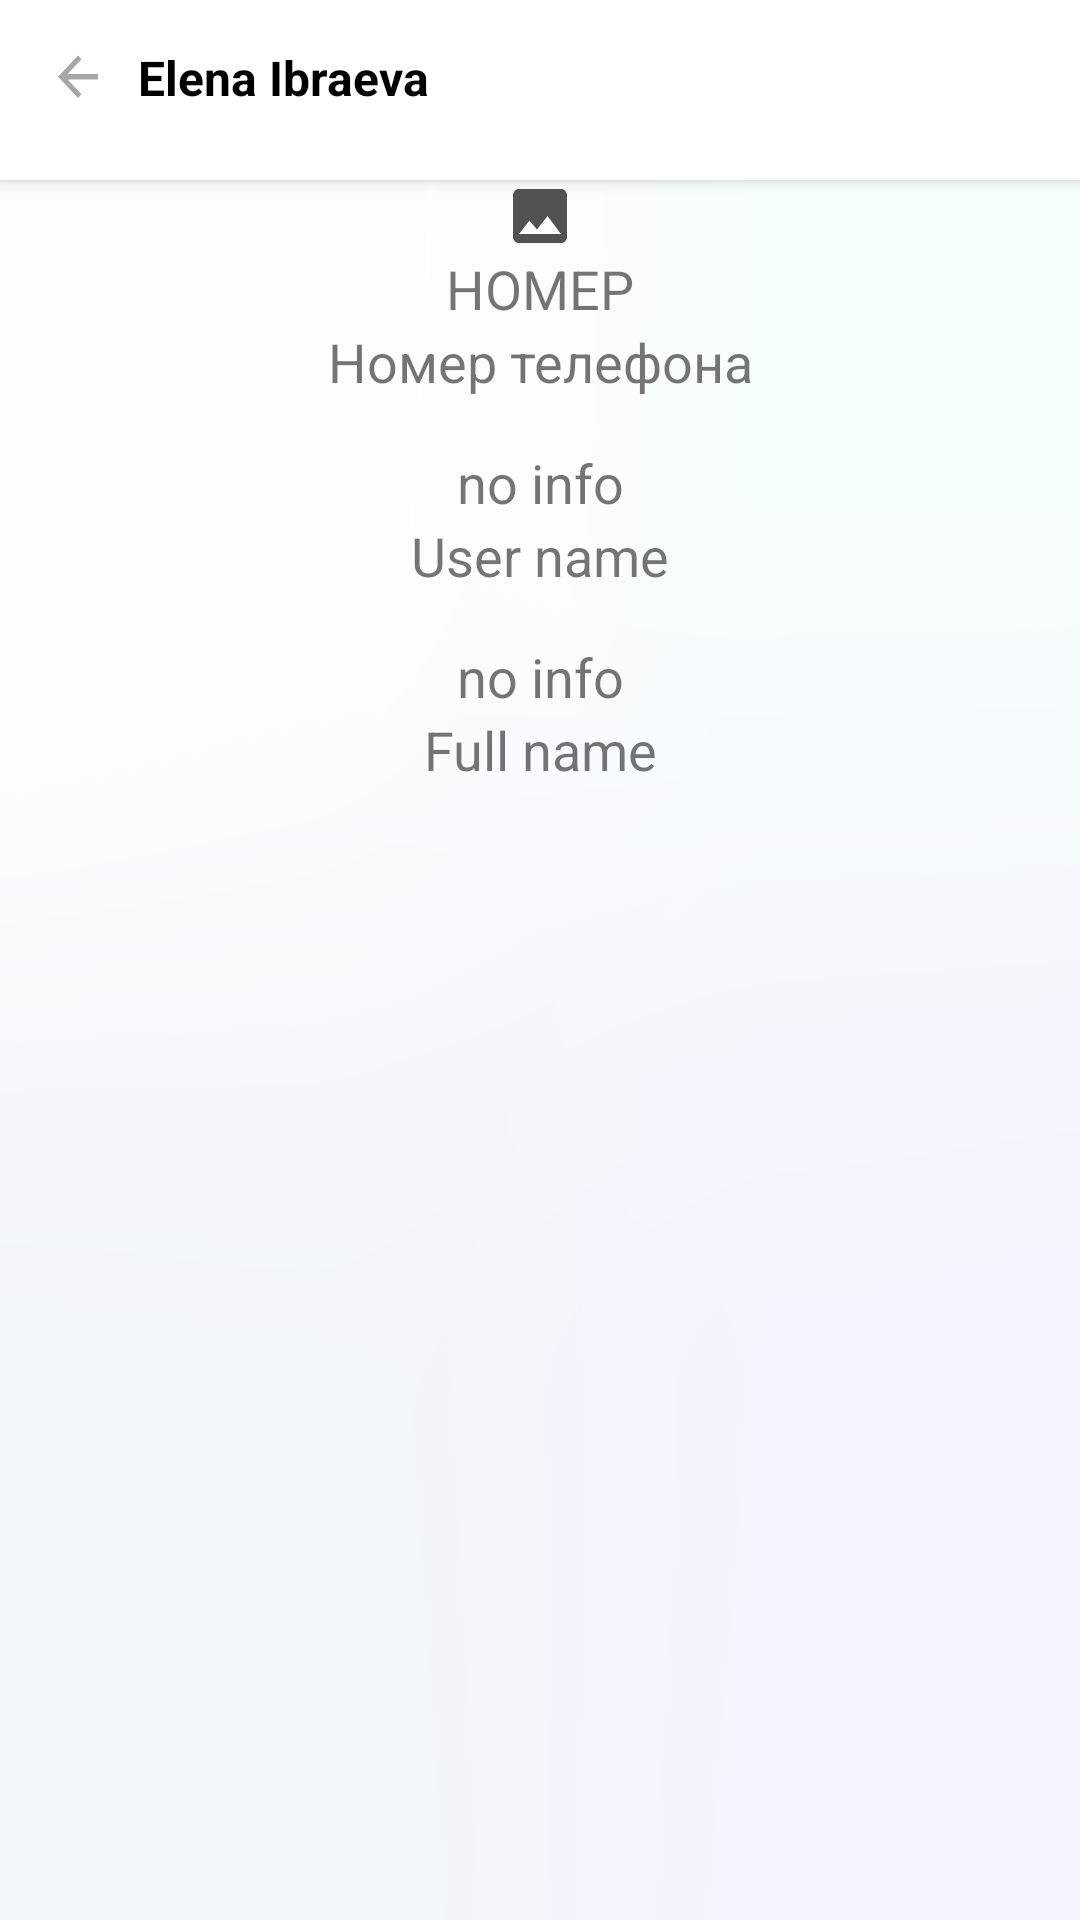

Locate icon controls on the screen. Image size 1080 × 1920, boxes as (x1, y1, x2, y2).
back arrow: (58, 56, 98, 98)
